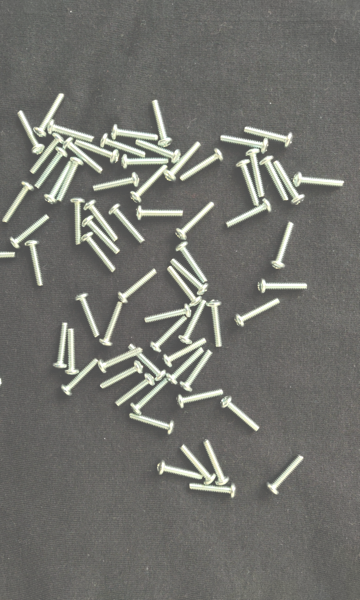longscrew: (108, 202, 148, 246), (177, 443, 218, 485), (175, 200, 216, 242), (129, 163, 169, 206), (266, 454, 305, 498), (81, 215, 122, 256), (62, 136, 104, 176), (218, 395, 261, 434), (83, 198, 121, 242), (178, 148, 225, 183), (166, 346, 206, 387), (131, 375, 170, 417), (164, 140, 202, 183), (165, 264, 203, 307), (80, 231, 118, 274), (32, 146, 68, 191), (127, 342, 167, 382), (169, 257, 210, 296), (272, 159, 306, 206), (61, 357, 99, 399), (225, 197, 273, 230), (173, 241, 209, 285), (29, 132, 65, 176), (0, 180, 35, 225), (200, 438, 232, 487), (233, 297, 282, 329), (118, 267, 158, 306), (9, 213, 51, 250), (33, 92, 66, 139), (179, 349, 214, 393), (115, 372, 156, 409), (259, 155, 290, 203), (150, 314, 188, 353), (162, 336, 208, 368), (98, 360, 145, 391), (15, 108, 46, 155), (179, 297, 208, 346), (44, 158, 73, 206), (97, 346, 144, 375), (99, 133, 148, 160), (235, 158, 261, 207), (46, 118, 95, 144), (241, 125, 294, 149), (74, 138, 121, 165), (270, 221, 295, 271), (134, 138, 182, 164), (57, 156, 83, 204), (74, 292, 100, 339), (127, 412, 177, 436), (149, 98, 173, 148), (219, 133, 270, 156), (99, 300, 123, 348), (175, 387, 225, 410), (156, 459, 205, 482), (245, 148, 267, 198), (143, 303, 193, 325), (24, 239, 46, 289), (91, 172, 141, 194), (292, 170, 346, 190), (205, 299, 225, 349), (109, 123, 159, 143), (186, 482, 240, 500), (256, 278, 309, 295), (69, 196, 87, 246), (133, 204, 185, 221), (63, 325, 79, 377), (120, 153, 172, 169), (52, 321, 68, 372), (0, 248, 18, 265), (0, 374, 4, 397)
